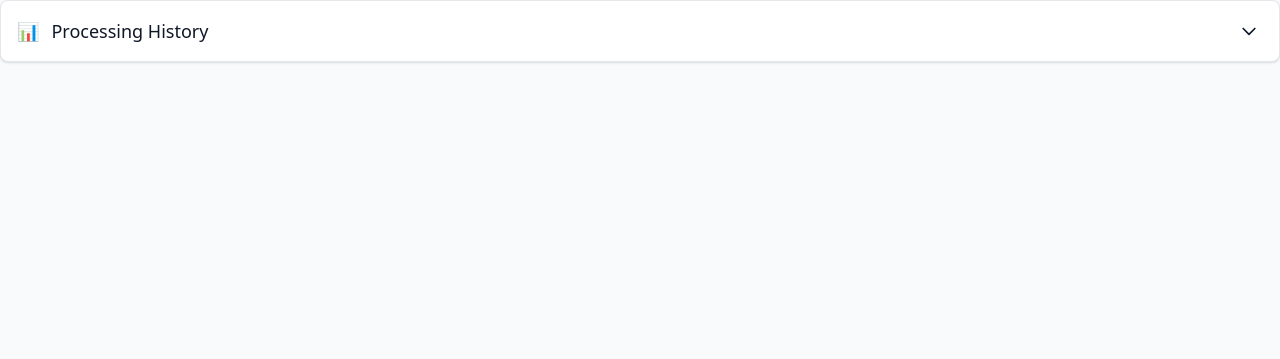
Test: ProcessingPanel › renders running and failed stages with timestamps and errors
Click the heading "Processing History". click: click(130, 31)
box: x1=52 y1=17 x2=208 y2=45
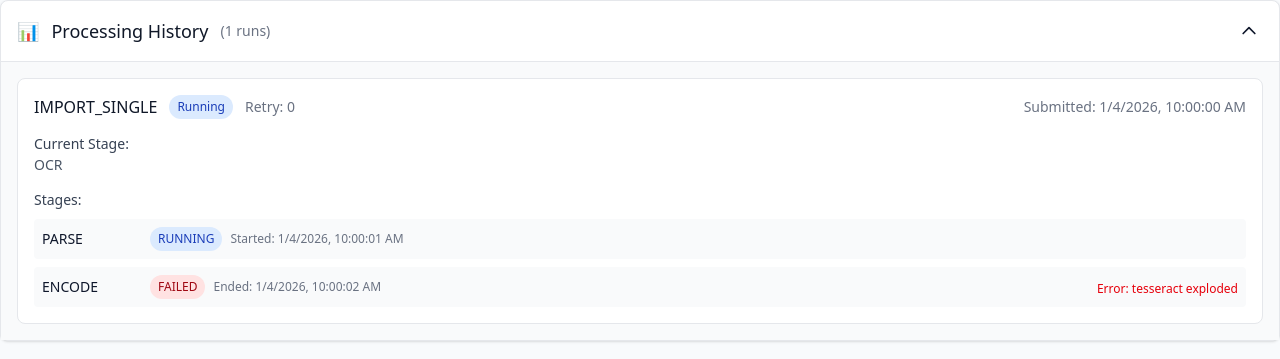
Result: the text "PARSE" is shown at x1=42 y1=229 x2=83 y2=248
Result: the text "ENCODE" is shown at x1=42 y1=277 x2=98 y2=296
Result: the text "RUNNING" is shown at x1=150 y1=227 x2=222 y2=251
